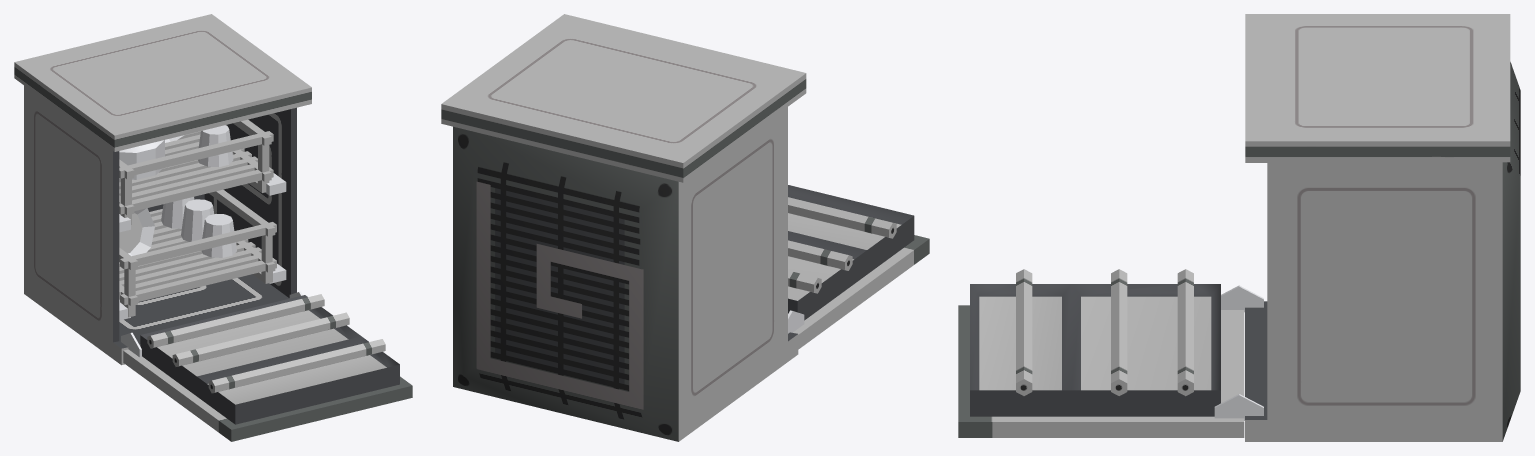
3 views of the same model, side by side, from view 1: azimuth 30°, elevation 25°; view 2: azimuth 150°, elevation 25°; view 3: azimuth 270°, elevation 25° (orthographic). The views are drawn at different scales.
Visible parts, largest first — view 1: Dishwasher1, Door, Pallet, Pallet1, Dishes7, Dishes9, Dishes10, Dishes11, Dishes3, Dishes8; view 2: Dishwasher1, Door; view 3: Dishwasher1, Door.
Boxes of the visible parts, x1,y1,x2,y2 form: Dishwasher1: (14, 14, 311, 365); Door: (121, 291, 412, 441); Pallet: (119, 189, 276, 317); Pallet1: (119, 119, 273, 224); Dishes7: (119, 208, 154, 256); Dishes9: (181, 199, 213, 241); Dishes10: (201, 214, 236, 257); Dishes11: (119, 140, 164, 179); Dishes3: (198, 125, 233, 166); Dishes8: (161, 197, 194, 228); Dishwasher1: (441, 14, 806, 441); Door: (788, 185, 929, 349); Dishwasher1: (1245, 14, 1520, 441); Door: (958, 269, 1263, 437).
Bounding box in the file's own units: 316 × 354 × 591.
1 material, 1 textured.
